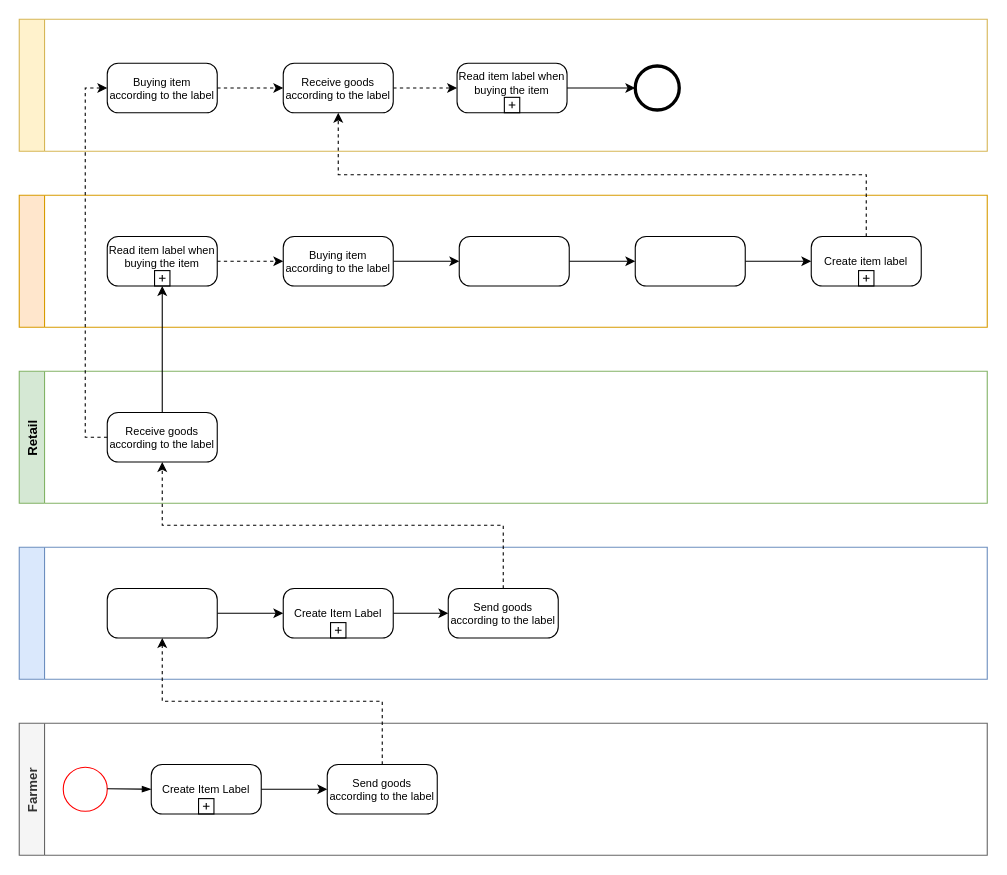
This 1007x875 diagram has some shape labels left out. Each missing label, with the box of its shape:
Customer: (18, 18, 987, 151)
Famous Manufacture: (18, 546, 987, 679)
Processing goods: (634, 235, 745, 286)
Receive goods acconrding to the label: (106, 587, 217, 638)
Receive goods according to lhe label: (458, 235, 569, 286)
Restaurant: (18, 194, 987, 327)
